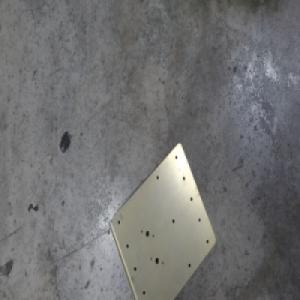MetalSheet: (107, 140, 216, 300)
